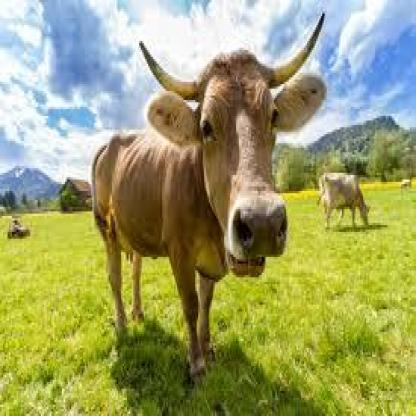cow: (91, 15, 328, 385), (316, 172, 371, 233)
